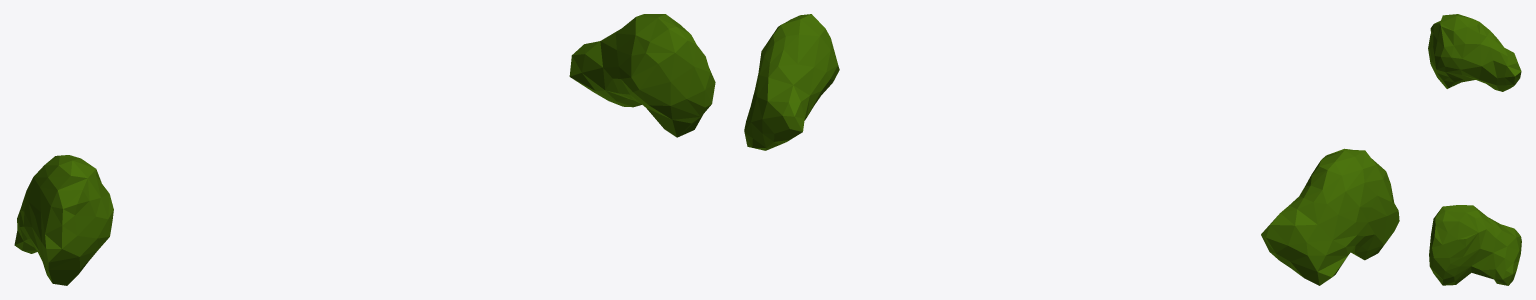
File: 45-BLI-basolateral amygdaloid nucleus, intermediate part-('0.3059', '0.4980', '0.0000').obj
3 views of the same model, side by side, from view 1: azimuth 30°, elevation 25°; view 2: azimuth 150°, elevation 25°; view 3: azimuth 270°, elevation 25° (orthographic). The views are drawn at different scales.
Size of the model in its own units: 151 by 25.25 by 27.87.
